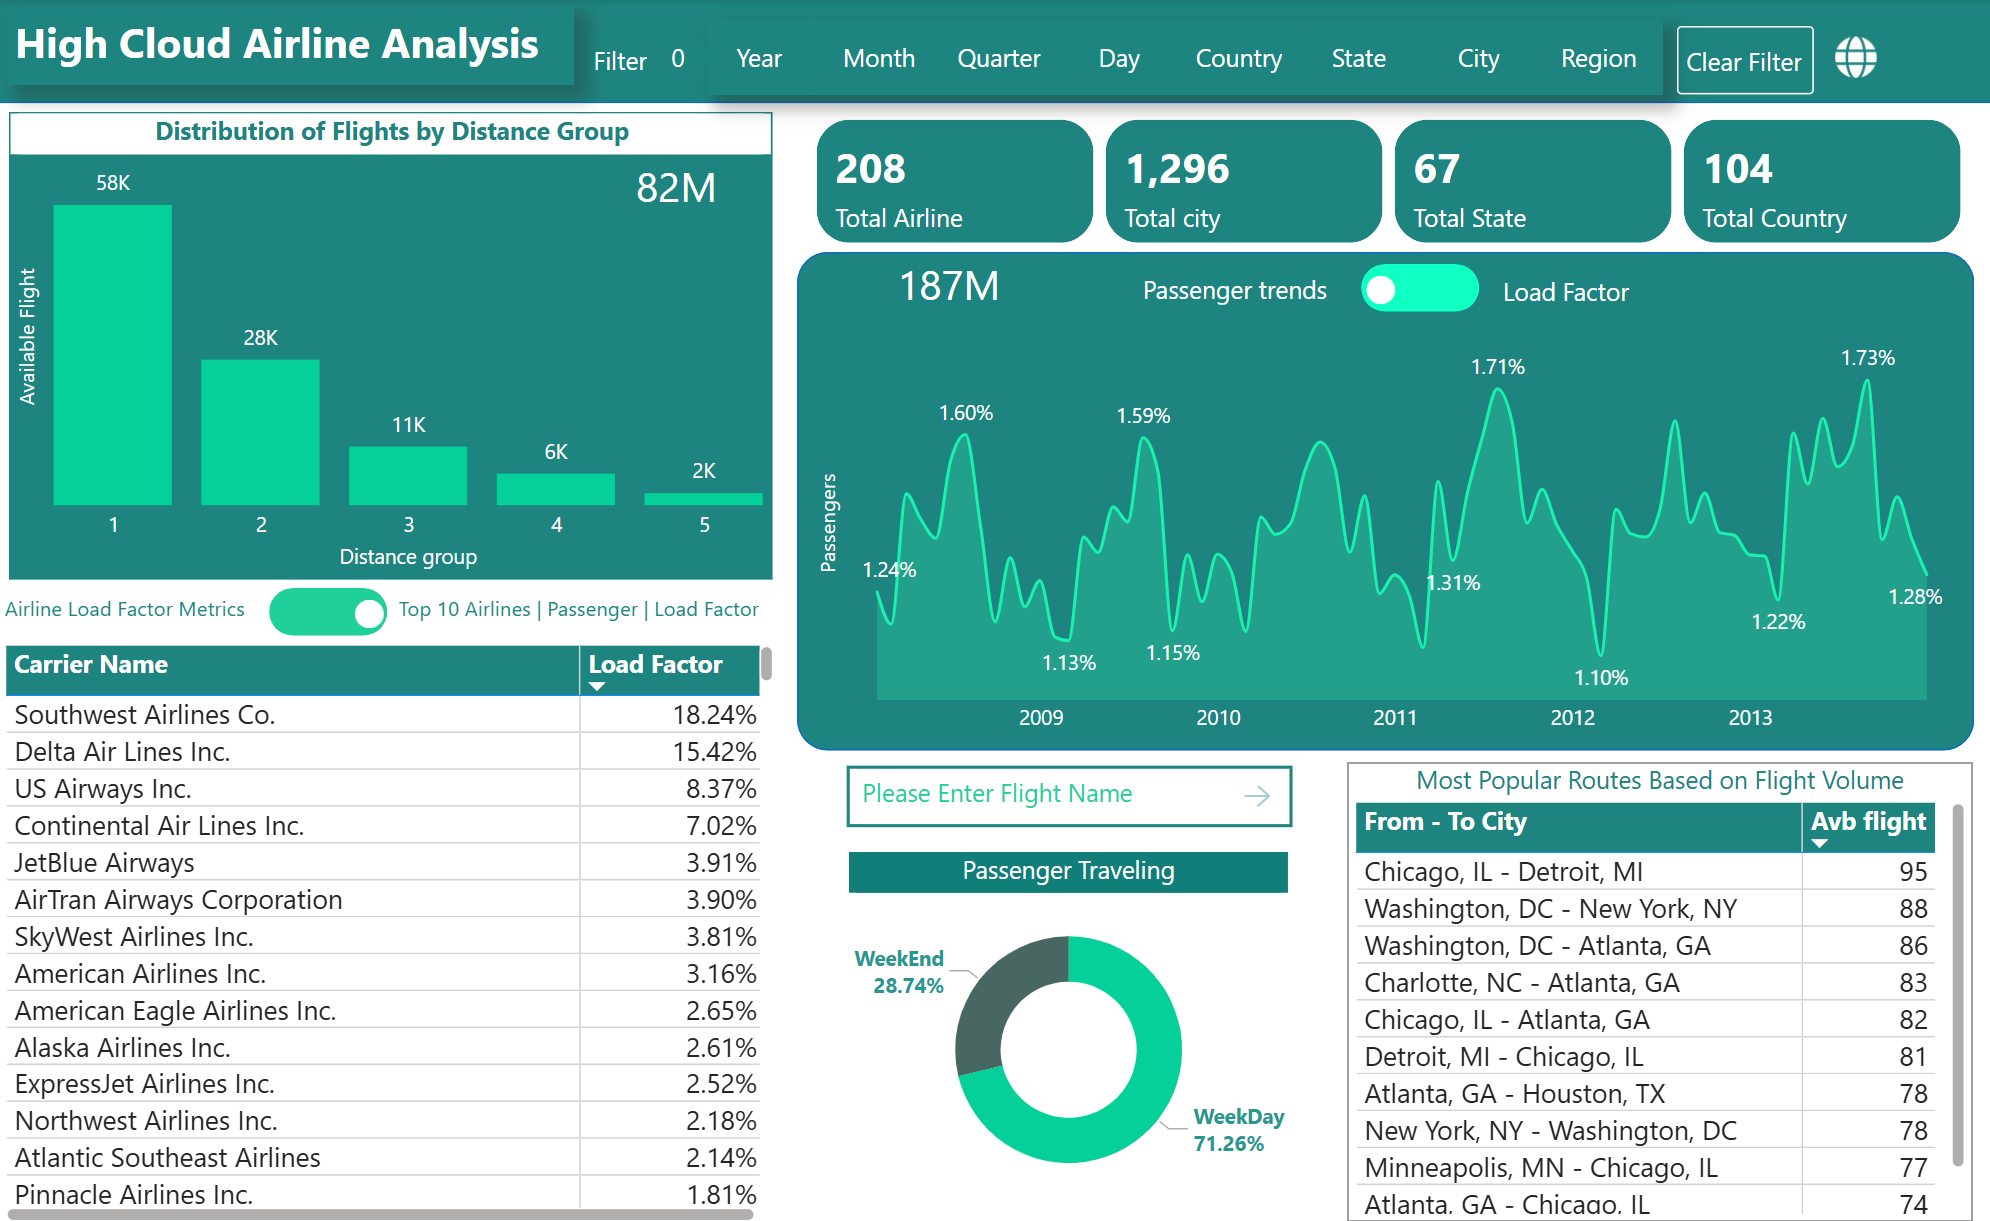

Layout of this report page (visuals, bound fields, positions):
{"tool":"powerbi","page":{"name":"Airline","canvas":[1300,800],"ordinal":0},"visuals":[{"type":"tableEx","title":"Carrier by load factor","fields":{"Values":["Final Table.Carrier Name","Measure.% passanger"]},"box":[0,415.7,510,384.3],"z":0},{"type":"donutChart","title":"Passenger Traveling","fields":{"Category":["Calendar.Week Type"],"Y":["Measure.% passanger"]},"box":[554.3,555.7,285.7,235.7],"z":2000},{"type":"cardVisual","fields":{"Data":["Measure.Total Airline","Measure.total city","Measure.total State","Measure.Total Country"]},"box":[528.8,73.8,757.5,90],"z":3000},{"type":"shape","box":[0,0,1500,68.3],"z":4000},{"type":"tableEx","title":"Most Popular Routes Based on Flight Volume","fields":{"Values":["Final Table.From - To City","Measure.Avb flight"]},"box":[878.6,497.1,407.1,298.6],"z":5000},{"type":"clusteredColumnChart","title":"Distribution of Flights by Distance Group","fields":{"Category":["Distance Groups.%Distance Group ID"],"Y":["Measure.Avb flight"]},"box":[7.5,73.8,496.2,303.8],"z":6000},{"type":"shape","box":[520.4,165.7,765.7,324.3],"z":12000},{"type":"areaChart","title":"Passenger Trend","fields":{"Category":["Calendar.End of Month"],"Y":["Measure.% passanger"]},"box":[528.9,212.9,745.7,274.3],"z":13000},{"type":"textbox","box":[740.7,173.3,146.9,31.7],"z":14000},{"type":"textbox","box":[974.1,173.9,130,31.2],"z":15000},{"type":"bookmarkNavigator","title":"Togal Button Line gp","box":[886.8,173.6,77.8,31.7],"z":16000},{"type":"card","fields":{"Values":["Measure.Total Passenger"]},"box":[567.5,167.5,103.8,38.8],"z":17000},{"type":"textbox","box":[255.7,382.9,254.3,32.9],"z":18000},{"type":"textSlicer","fields":{"Values":["Final Table.Carrier Name"]},"box":[547.8,494.4,300,50],"z":19000},{"type":"bookmarkNavigator","box":[177.1,384.3,77.1,31.4],"z":20000},{"type":"textbox","box":[0,382.9,177.1,32.9],"z":21000},{"type":"textbox","box":[7.1,5.7,368.6,51.4],"z":22000},{"type":"bookmarkNavigator","box":[461.2,12.5,621.2,50],"z":32000},{"type":"shape","title":"Count Filter","box":[423.8,20,37.5,37.5],"z":33000},{"type":"actionButton","box":[383.8,20,78.8,40],"z":34000},{"type":"card","fields":{"Values":["Measure.Total Distance"]},"box":[390,104.4,103.3,38.9],"z":35000},{"type":"actionButton","box":[1092.2,17.8,88.9,44.4],"z":36000},{"type":"actionButton","box":[1191.2,20,35,37.5],"z":37000}]}

Visuals, with their boxes in screenshot pixels (x1, y1, x2, y2), scaled from the page's 1300x800 canvas onto the 1990x1221 screenshot:
"Carrier by load factor" tableEx: rect(0, 634, 781, 1220)
"Passenger Traveling" donutChart: rect(849, 848, 1286, 1208)
cardVisual - Measure.Total Airline x Measure.total city: rect(809, 113, 1969, 250)
shape: rect(0, 0, 1989, 104)
"Most Popular Routes Based on Flight Volume" tableEx: rect(1345, 759, 1968, 1214)
"Distribution of Flights by Distance Group" clusteredColumnChart: rect(11, 113, 771, 576)
shape: rect(797, 253, 1969, 748)
"Passenger Trend" areaChart: rect(810, 325, 1951, 744)
textbox: rect(1134, 264, 1359, 313)
textbox: rect(1491, 265, 1690, 313)
"Togal Button Line gp" bookmarkNavigator: rect(1357, 265, 1477, 313)
card - Measure.Total Passenger: rect(869, 256, 1028, 315)
textbox: rect(391, 584, 781, 635)
textSlicer - Final Table.Carrier Name: rect(839, 755, 1298, 831)
bookmarkNavigator: rect(271, 587, 389, 634)
textbox: rect(0, 584, 271, 635)
textbox: rect(11, 9, 575, 87)
bookmarkNavigator: rect(706, 19, 1657, 95)
"Count Filter" shape: rect(649, 31, 706, 88)
actionButton: rect(588, 31, 708, 92)
card - Measure.Total Distance: rect(597, 159, 755, 219)
actionButton: rect(1672, 27, 1808, 95)
actionButton: rect(1823, 31, 1877, 88)
